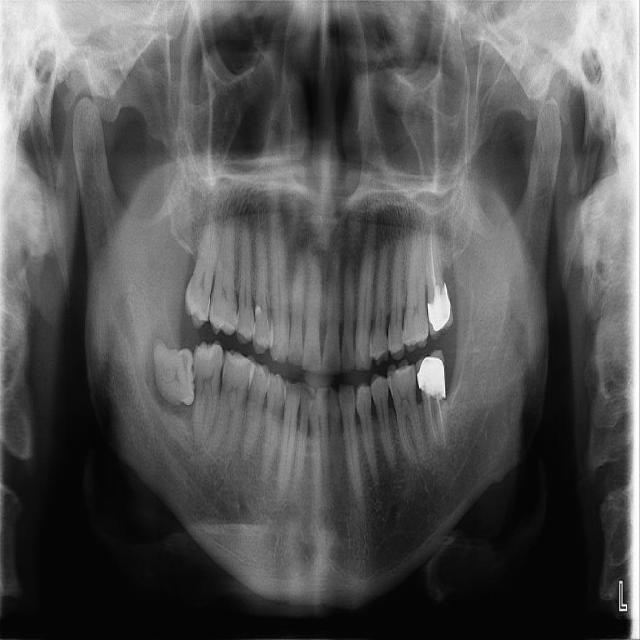Crown: (427, 272, 453, 340), (416, 349, 445, 398)
Filling: (254, 304, 275, 351)
Root Canal Treatment: (428, 396, 439, 441), (430, 239, 437, 289), (439, 399, 444, 440)
impacted tooth: (156, 338, 192, 402)
